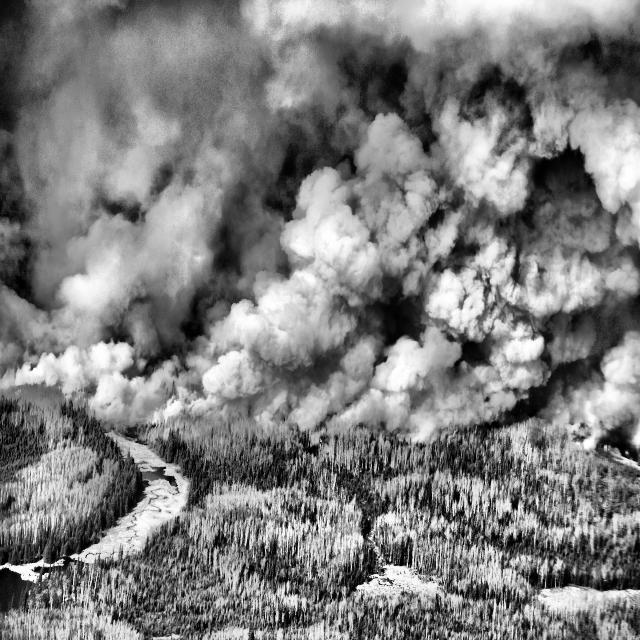fire: (542, 381, 634, 488), (436, 357, 500, 493), (294, 401, 349, 502)
